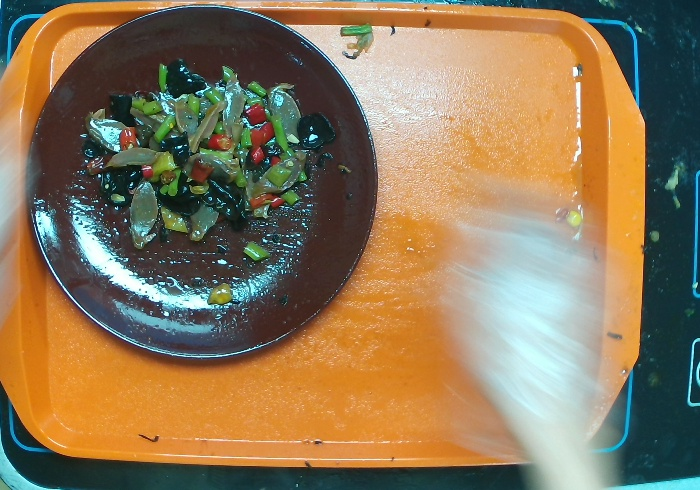HZYJPL-Ka_Fei_Yuan_Pan: (20, 1, 379, 360)
